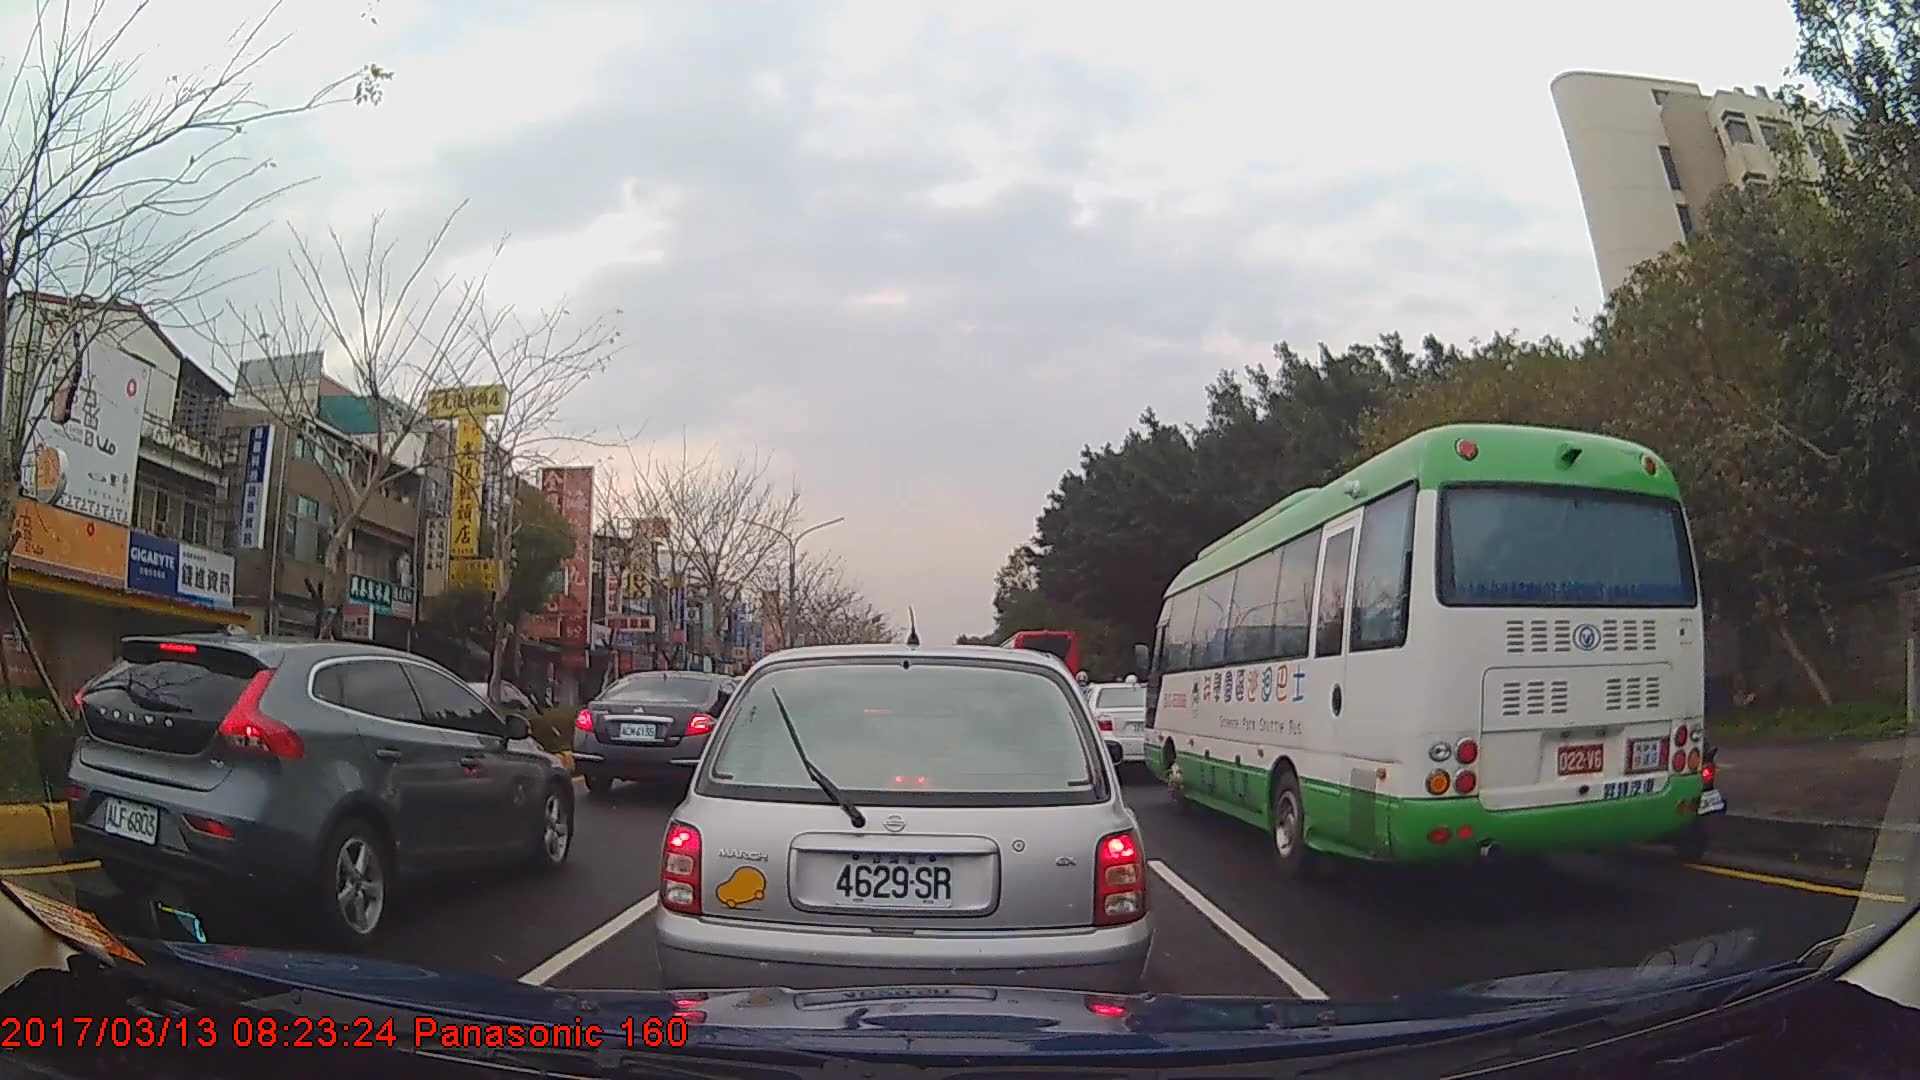vehicle: (1142, 422, 1706, 877), (655, 640, 1155, 1043), (65, 633, 576, 945), (571, 670, 757, 803), (1069, 679, 1179, 779), (994, 625, 1083, 724), (436, 678, 534, 732)
